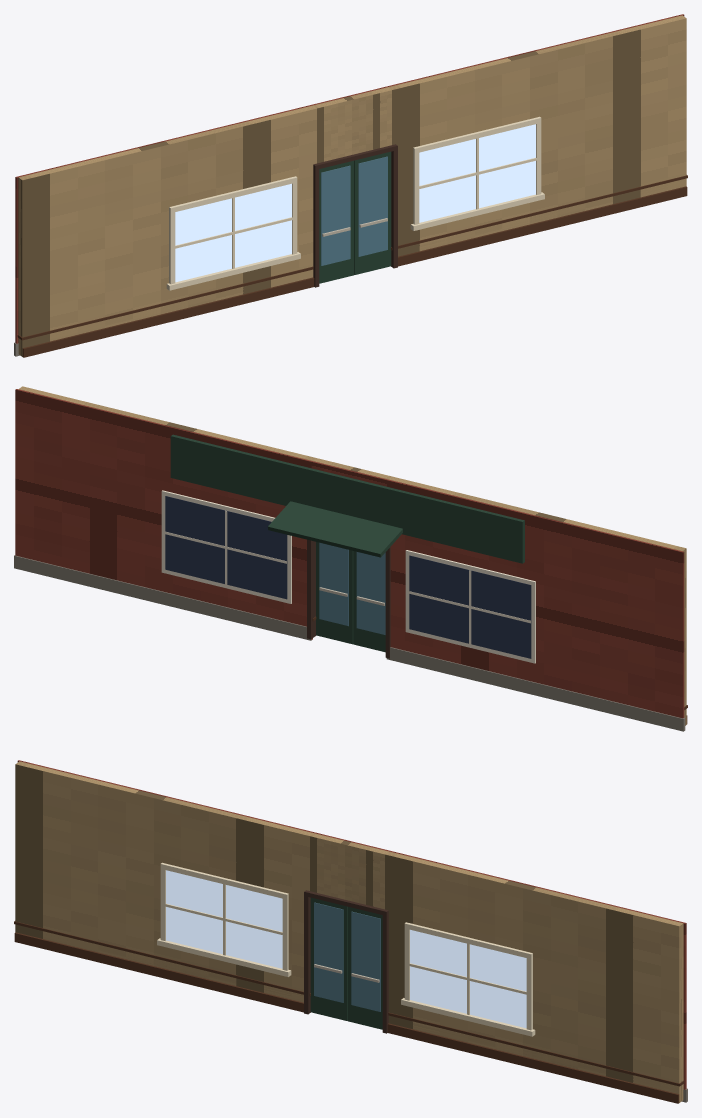
File: front.glb
3 views of the same model, one above another, from view 1: azimuth 30°, elevation 25°; view 2: azimuth 150°, elevation 25°; view 3: azimuth 330°, elevation 25° (orthographic).
Parts seen in each view (by area): view 1: Box1, Box3, Box30, Box41, Box5, Box2, Box4, Box15, Box19, Box48, Box18, Box14 (+10 smaller); view 2: Box6, Box8, Box44, Box23, Box34, Box7, Box45, Box9, Box15, Box19, Box22, Box33 (+7 smaller); view 3: Box3, Box1, Box30, Box41, Box5, Box4, Box2, Box15, Box19, Box46, Box48, Box14 (+10 smaller).
Boxes of the visible parts, <box> form: Box1: <box>18,105,316,356</box>; Box3: <box>388,15,686,256</box>; Box30: <box>175,183,291,282</box>; Box41: <box>419,124,535,222</box>; Box5: <box>313,87,391,163</box>; Box2: <box>22,277,314,357</box>; Box4: <box>398,186,687,266</box>; Box15: <box>321,165,350,265</box>; Box19: <box>358,156,387,256</box>; Box48: <box>398,179,686,256</box>; Box18: <box>354,151,391,274</box>; Box14: <box>319,160,353,283</box>; Box6: <box>387,479,684,718</box>; Box8: <box>15,389,312,639</box>; Box44: <box>170,434,524,563</box>; Box23: <box>409,555,531,658</box>; Box34: <box>165,496,287,599</box>; Box7: <box>386,647,685,731</box>; Box45: <box>268,501,402,557</box>; Box9: <box>14,555,311,640</box>; Box15: <box>356,552,385,634</box>; Box19: <box>319,542,348,626</box>; Box22: <box>405,550,535,663</box>; Box33: <box>161,490,291,603</box>; Box3: <box>385,851,683,1102</box>; Box1: <box>15,761,313,1002</box>; Box30: <box>166,870,282,968</box>; Box41: <box>410,929,526,1028</box>; Box5: <box>310,833,388,909</box>; Box4: <box>387,1023,679,1103</box>; Box2: <box>14,932,303,1012</box>; Box15: <box>314,902,343,1002</box>; Box19: <box>351,911,380,1011</box>; Box46: <box>15,925,303,1002</box>; Box48: <box>388,1015,682,1102</box>; Box14: <box>310,897,347,1020</box>.
Bounding box in the file's own units: 14.27 × 3.64 × 1.22.
Materials: 12 (2 with a texture image).
